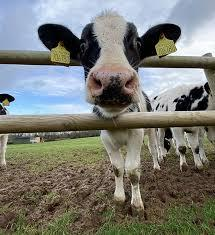cow: (36, 17, 181, 215), (151, 82, 215, 169), (0, 93, 15, 166)
